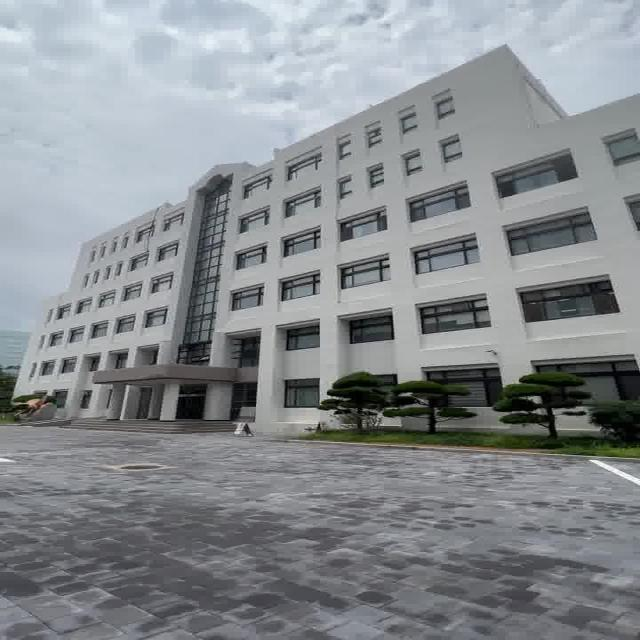building: (55, 116, 640, 383)
